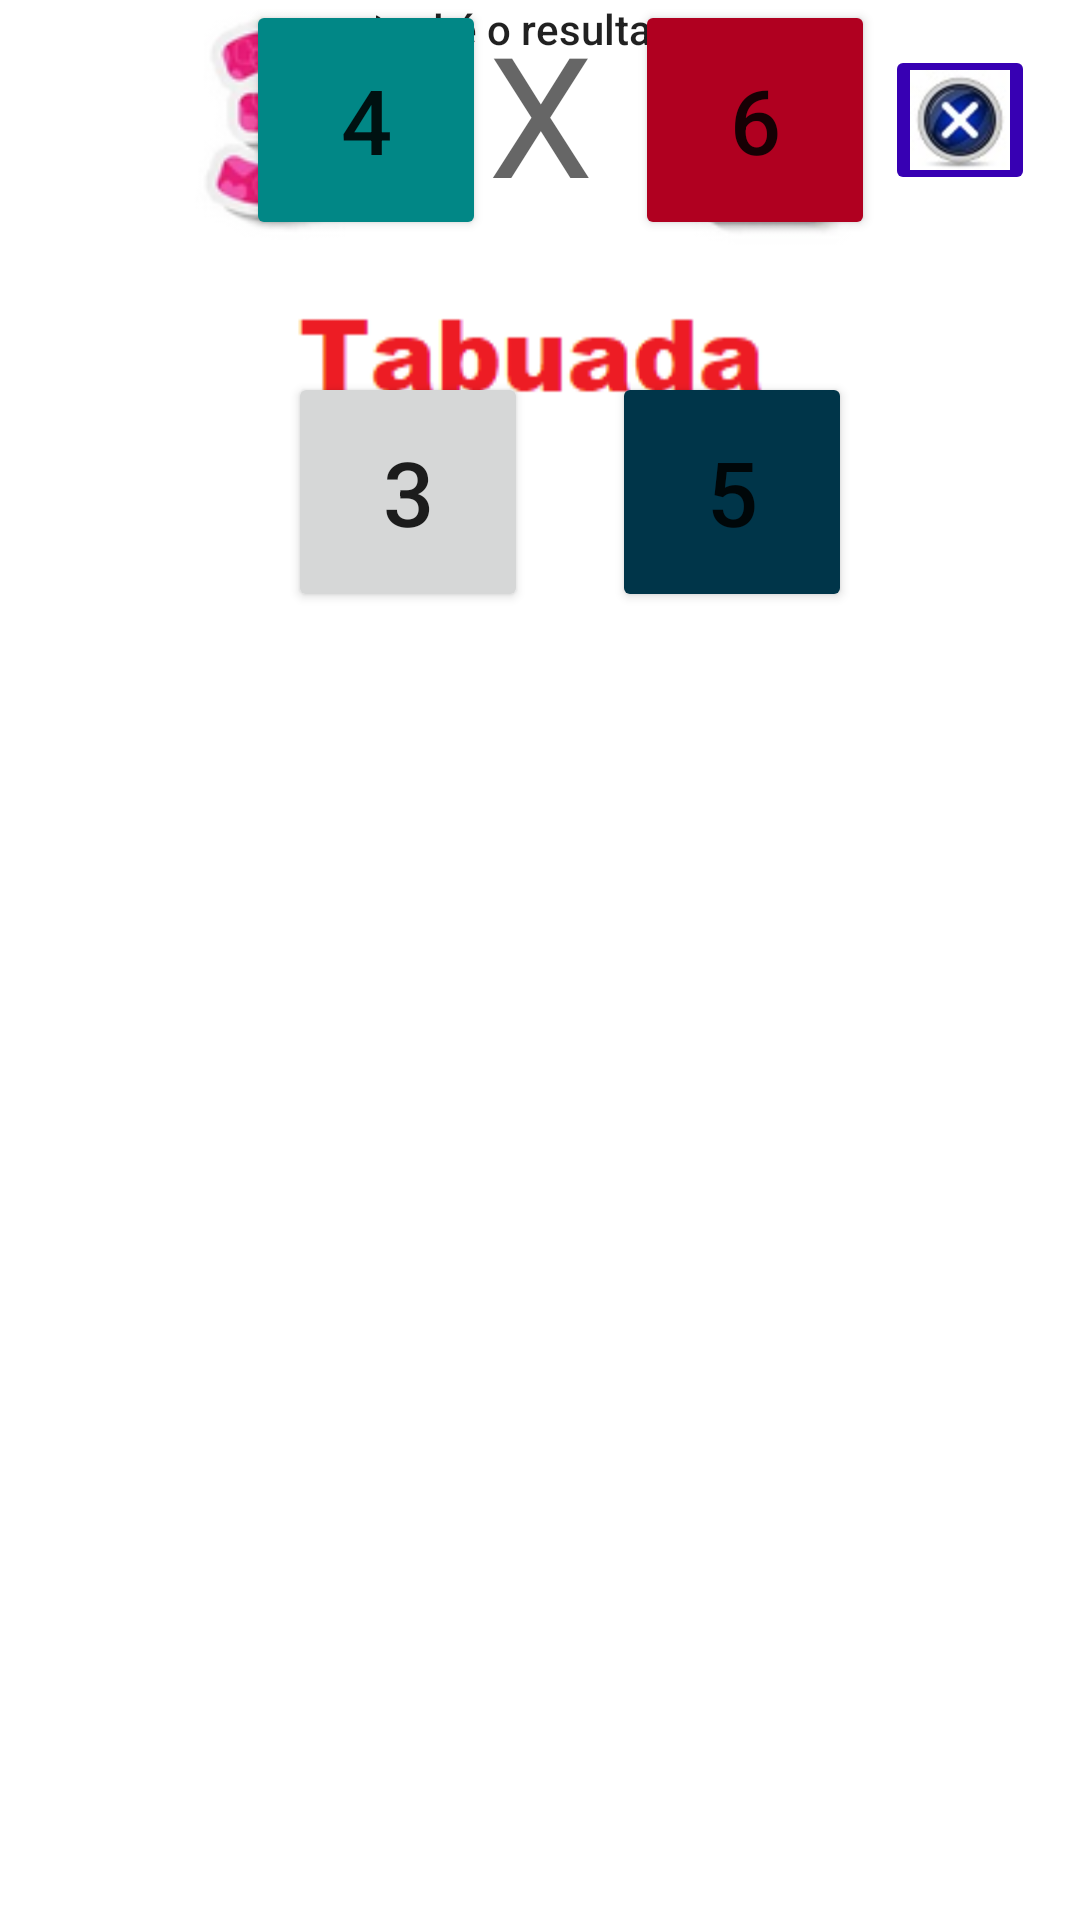

Where icons sit on this 1080x1920 app screen, as (x1, y1, x2, y2):
botaofechar: (897, 63, 1023, 177)
